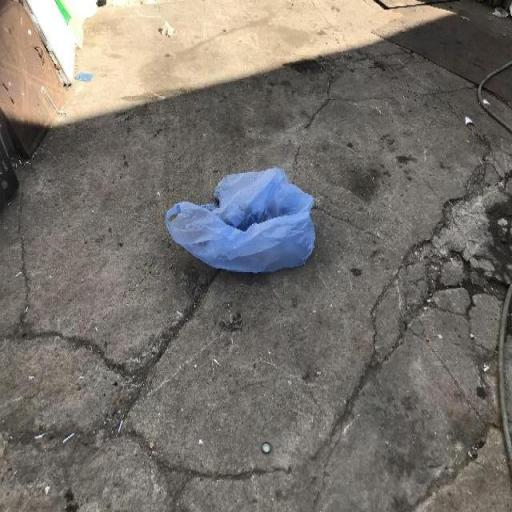plastic-bag: (163, 166, 318, 275)
